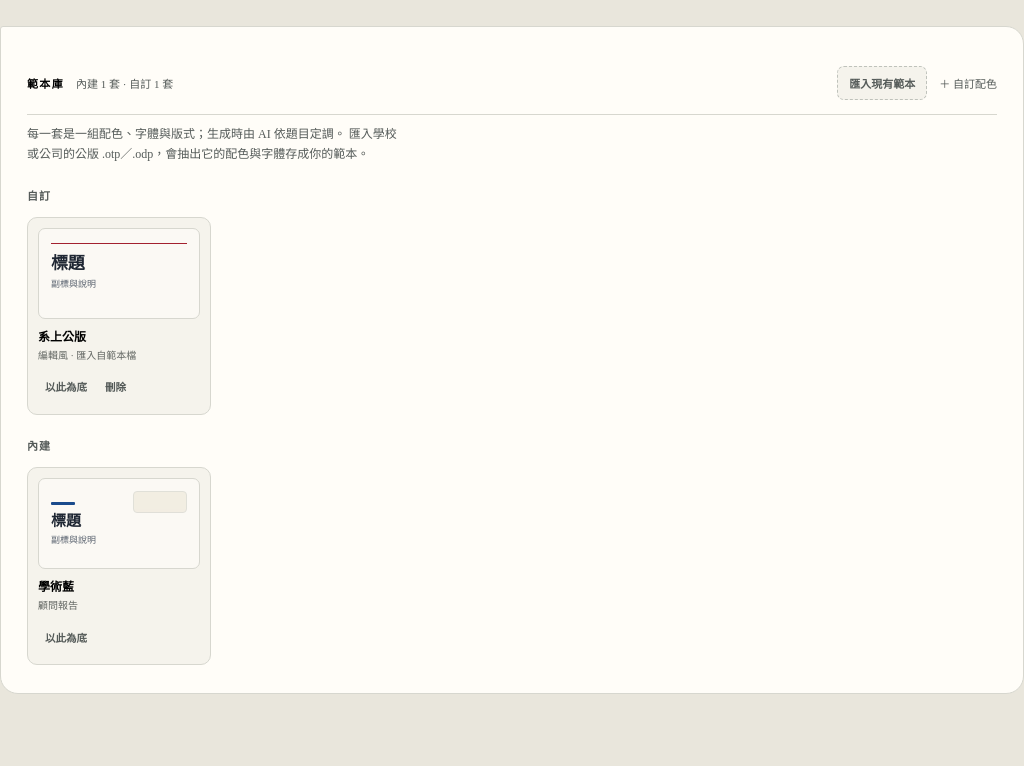
Test: 對比不足時當場說明並擋下儲存
Expected: the text "學術藍" is shown, [38,580,74,594]
Click the button "＋ 自訂配色" at (968, 83), box [939,68,997,98]
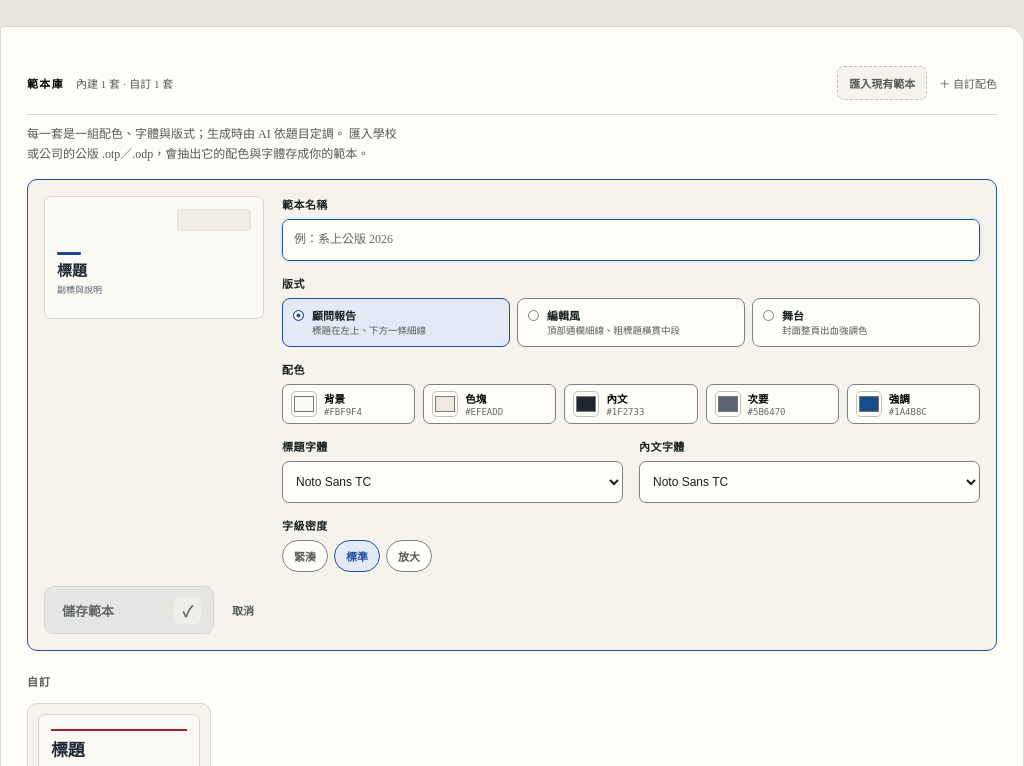
Type "看不見的配色" into the field labelled "範本名稱" at (631, 240), box [282,219,980,261]
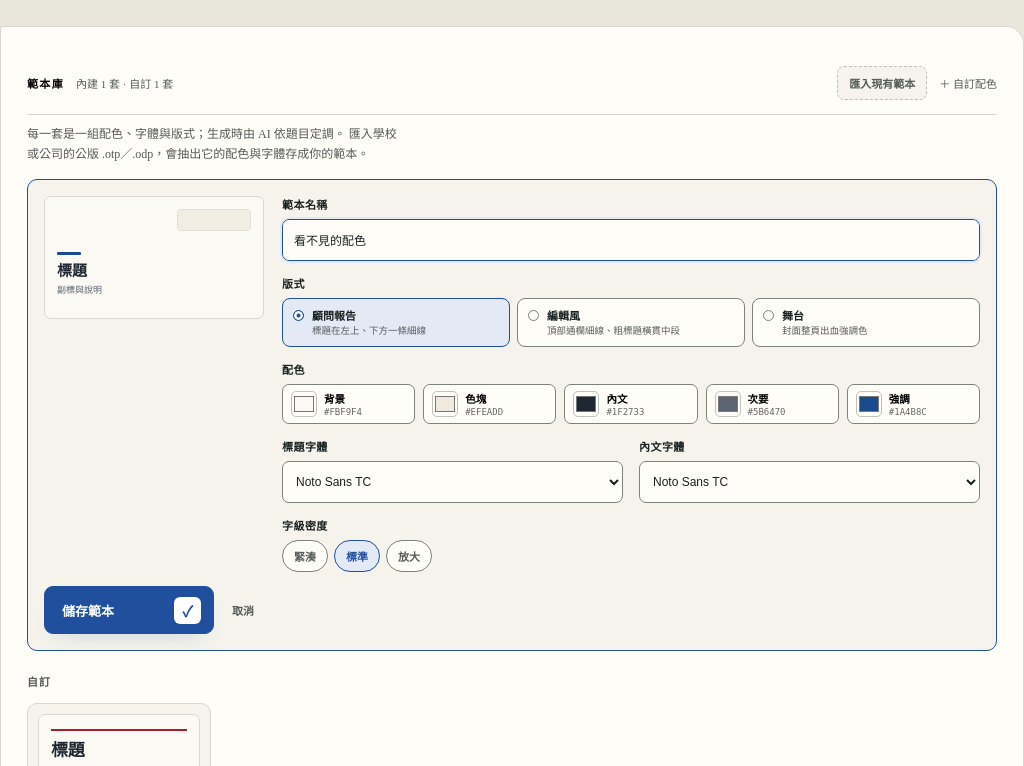
# 白底配淺灰字:後端本來就會退件,但要在調色的當下就說。
Type "#eeeeee" into the colour field labelled "內文" at (586, 404), box [573,391,599,417]
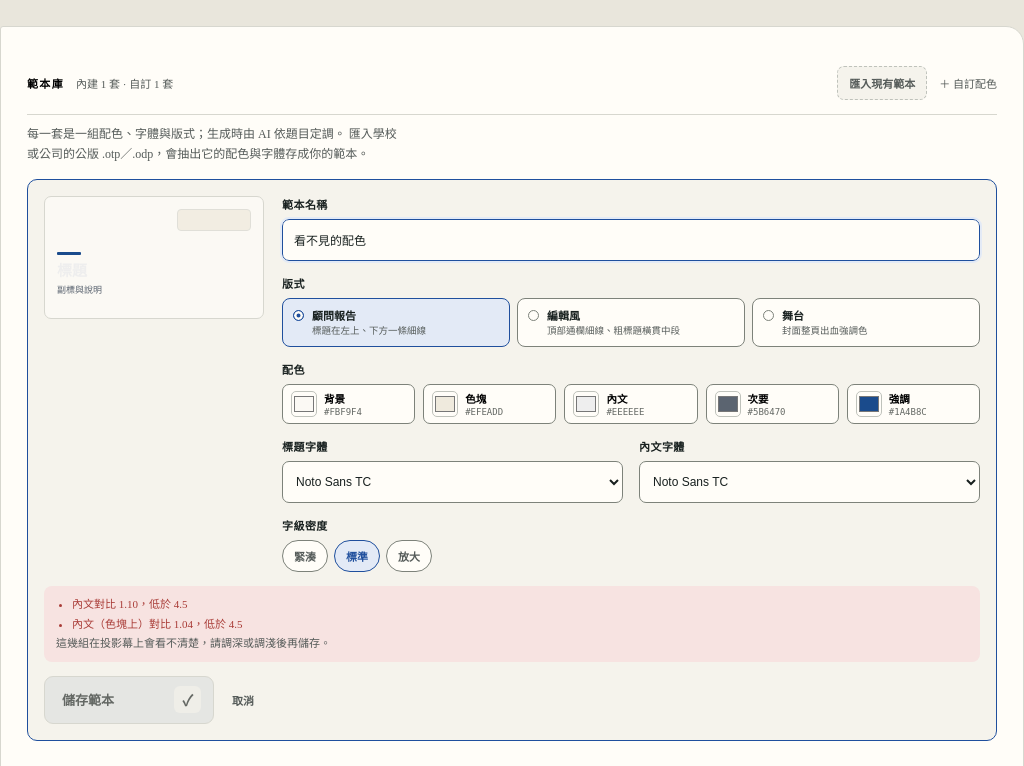
Expected: the message with test id "tpl-contrast" shows "低於 4.5", [72,598,188,610]
Expected: the button "儲存範本 ✓" is disabled, [44,676,214,724]
